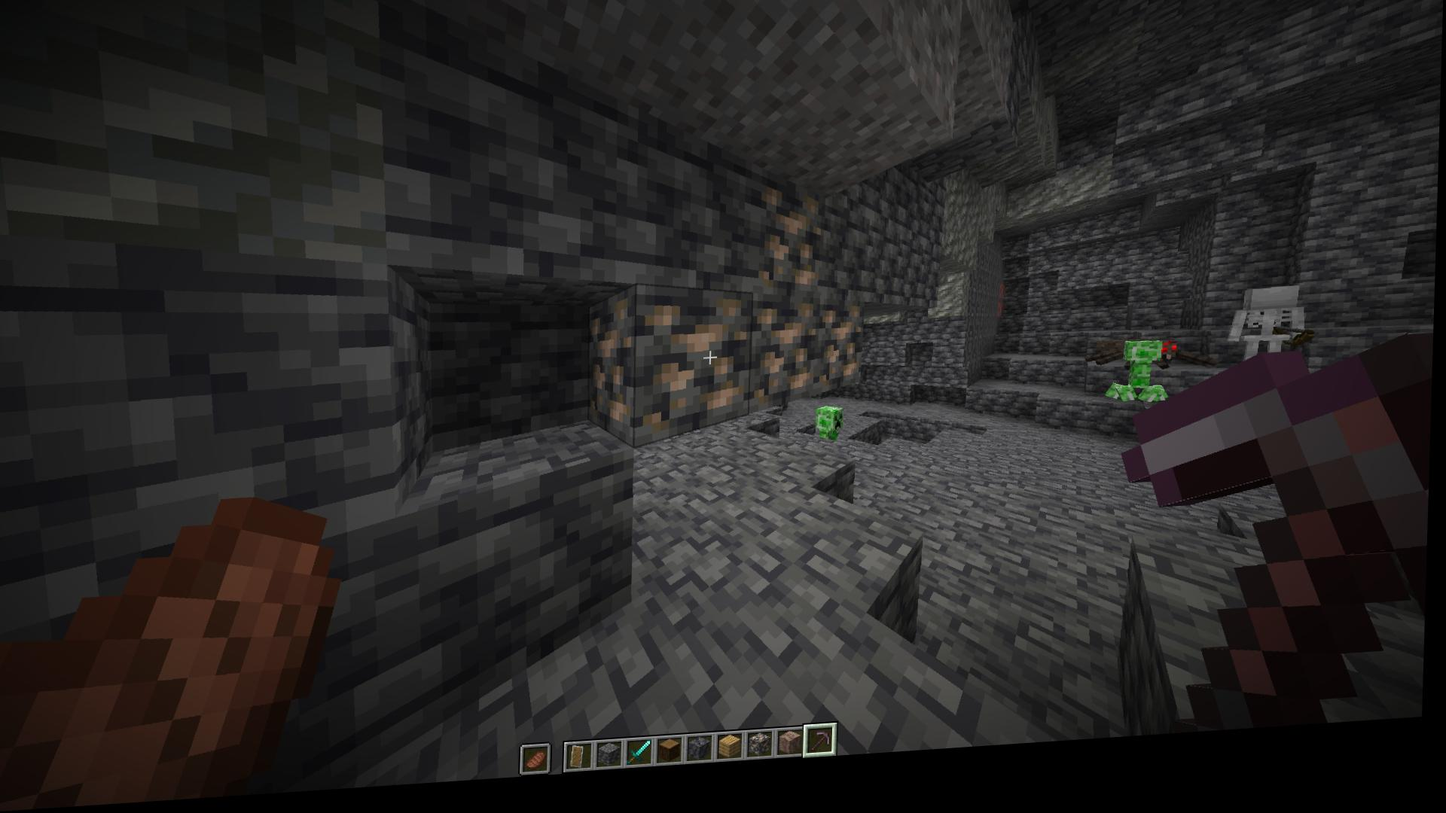iron ore: (587, 288, 755, 461), (761, 197, 826, 301), (754, 318, 811, 409), (812, 319, 864, 399)
